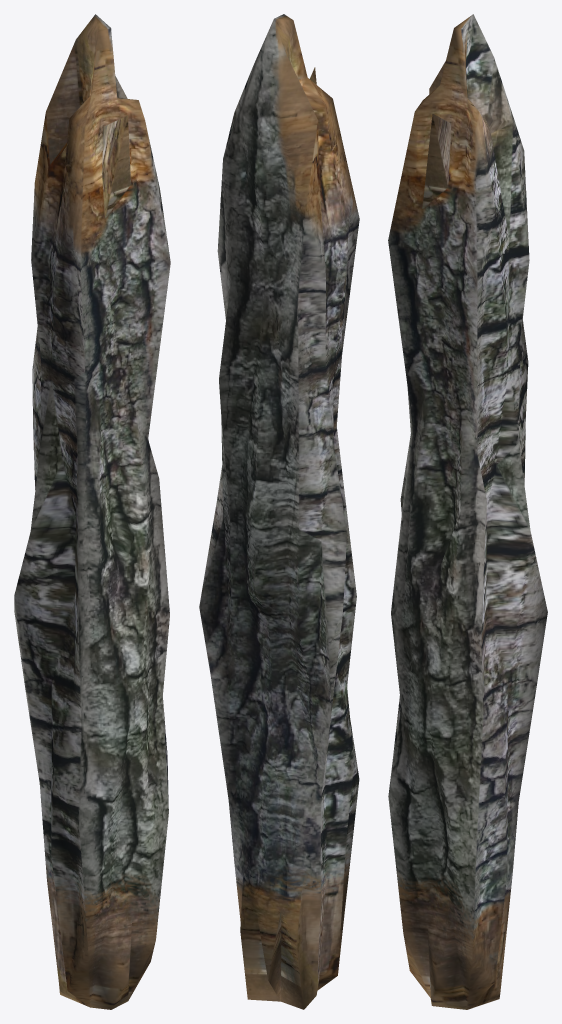
File: wood02.fbx
3 renders of one model, left to right at view 1: azimuth 30°, elevation 25°; view 2: azimuth 150°, elevation 25°; view 3: azimuth 330°, elevation 25°, orthographic.
Visible parts, largest first — view 1: Cube; view 2: Cube; view 3: Cube.
Part boxes in pixels (x1,y1,x2,y2): Cube: (14, 14, 170, 1009); Cube: (199, 14, 359, 1009); Cube: (388, 14, 547, 1009).
Size of the model in its own units: 79.32 by 544 by 64.69.
